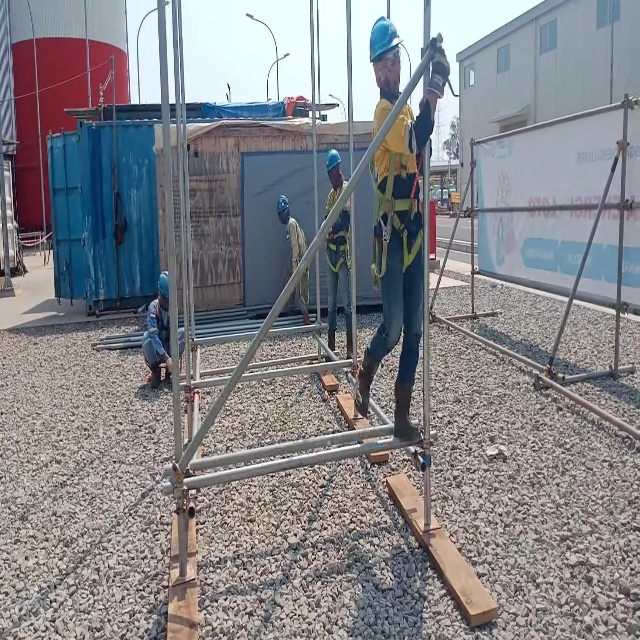Arnes_seguridad: (367, 148, 423, 289), (325, 185, 350, 276), (290, 216, 311, 306), (155, 293, 172, 348)
